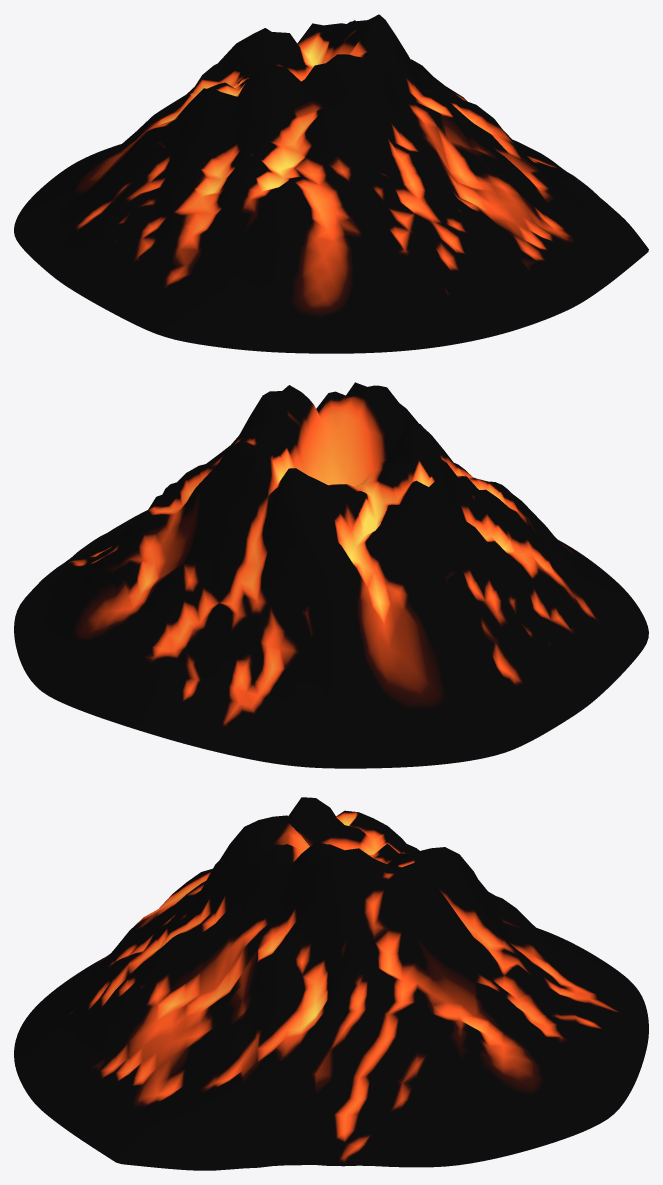
The model's file is volcano.glb.
3 views of the same model, one above another, from view 1: azimuth 30°, elevation 25°; view 2: azimuth 150°, elevation 25°; view 3: azimuth 270°, elevation 25° (orthographic). The views are drawn at different scales.
Visible parts, largest first — view 1: lowpolyVolcan.002; view 2: lowpolyVolcan.002; view 3: lowpolyVolcan.002.
Part boxes in pixels (bbox=[...]): lowpolyVolcan.002: bbox=[14, 14, 648, 353]; lowpolyVolcan.002: bbox=[14, 382, 648, 768]; lowpolyVolcan.002: bbox=[14, 797, 648, 1170].
Size of the model in its own units: 0.7581 by 0.3062 by 0.7782.
Materials: 1 (1 with a texture image).
